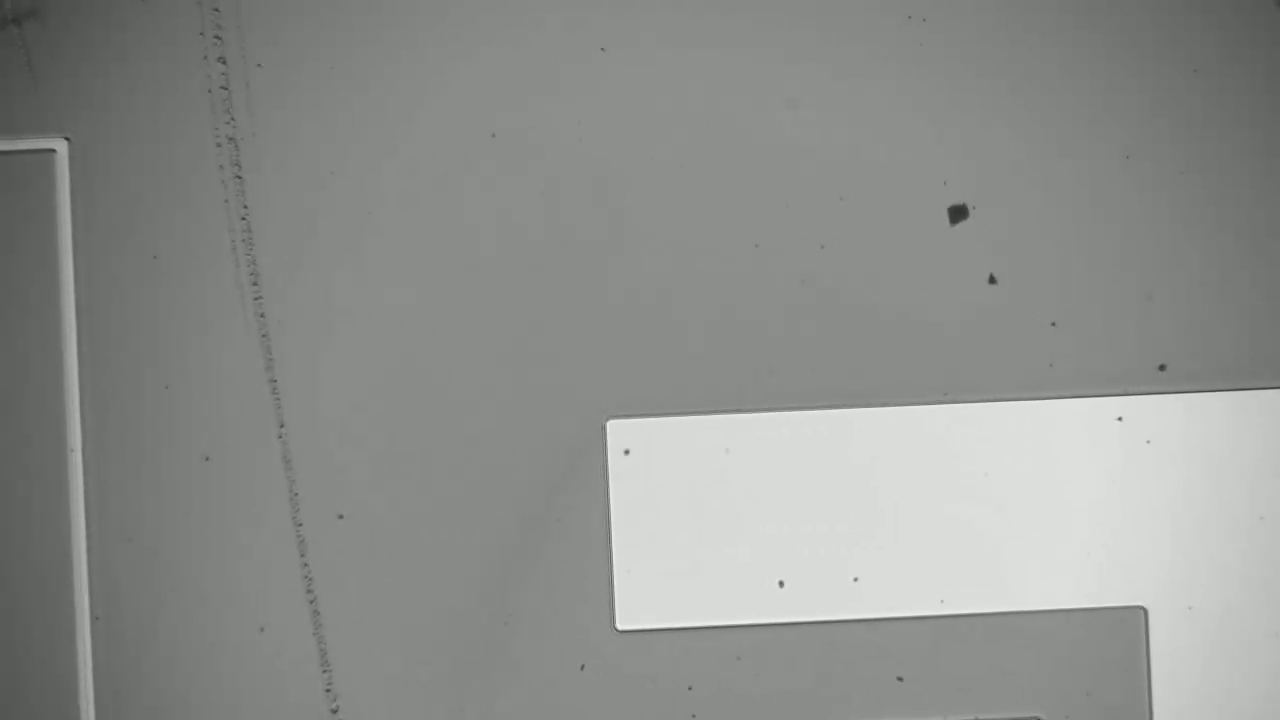scratch: (206, 10, 352, 720)
